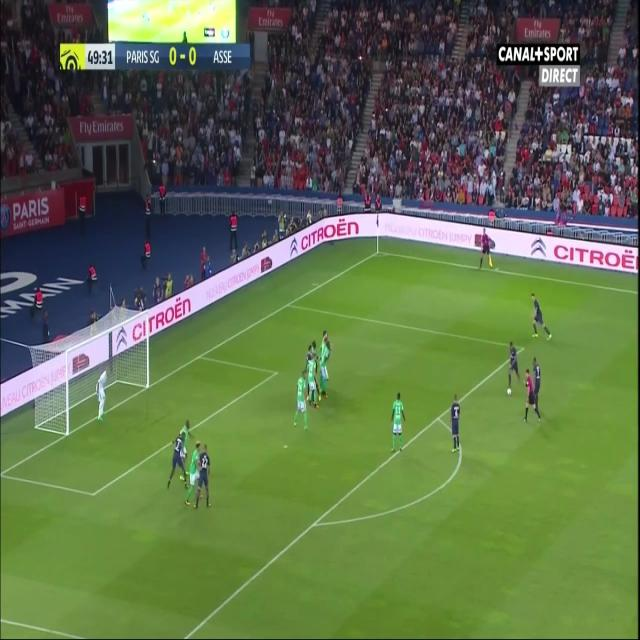Ball: (507, 386, 512, 397)
Goalkeeper: (94, 365, 110, 425)
Player: (193, 442, 211, 512), (184, 439, 202, 508), (530, 292, 555, 341), (178, 418, 196, 485), (166, 435, 187, 492), (389, 393, 408, 455), (292, 371, 310, 433), (450, 393, 462, 458), (507, 338, 522, 387), (306, 352, 318, 412), (320, 330, 330, 384), (532, 356, 542, 396)
Referee: (524, 367, 544, 427), (477, 228, 491, 269)
